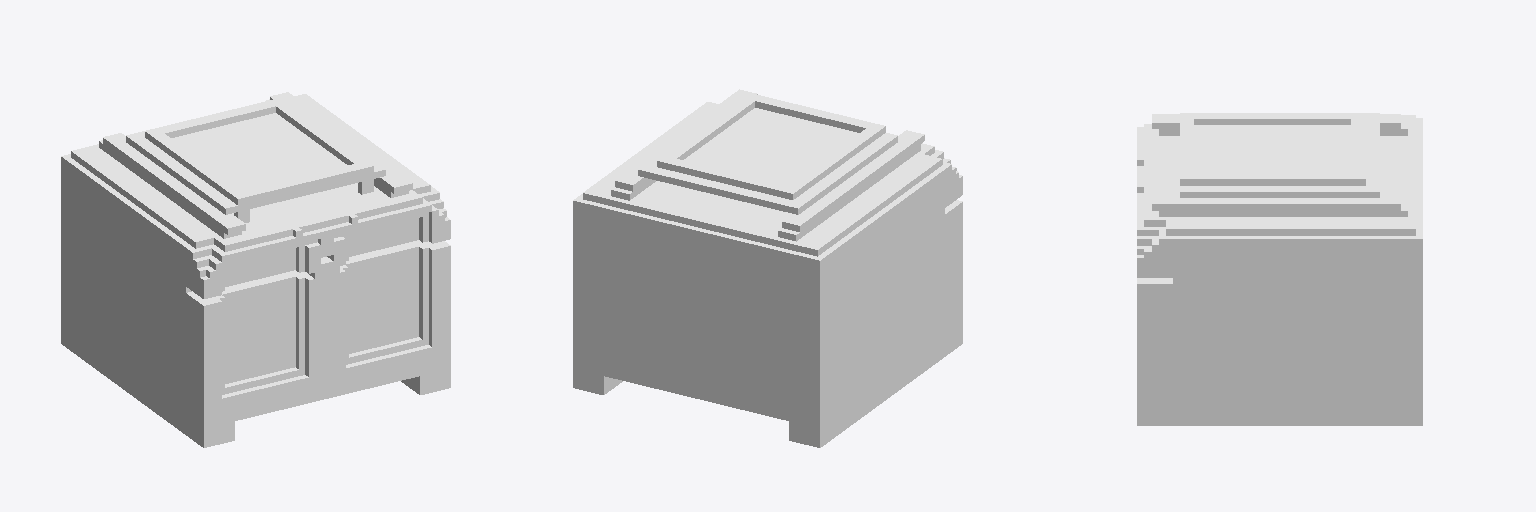
File: Diamond.obj
3 views of the same model, side by side, from view 1: azimuth 30°, elevation 25°; view 2: azimuth 150°, elevation 25°; view 3: azimuth 270°, elevation 25° (orthographic).
Visible parts, largest first — view 1: object 1; view 2: object 1; view 3: object 1.
Boxes of the visible parts, <box> form: object 1: <box>61,92,450,447</box>; object 1: <box>573,89,962,447</box>; object 1: <box>1137,113,1422,425</box>.
Size of the model in its own units: 4 by 3.4 by 4.